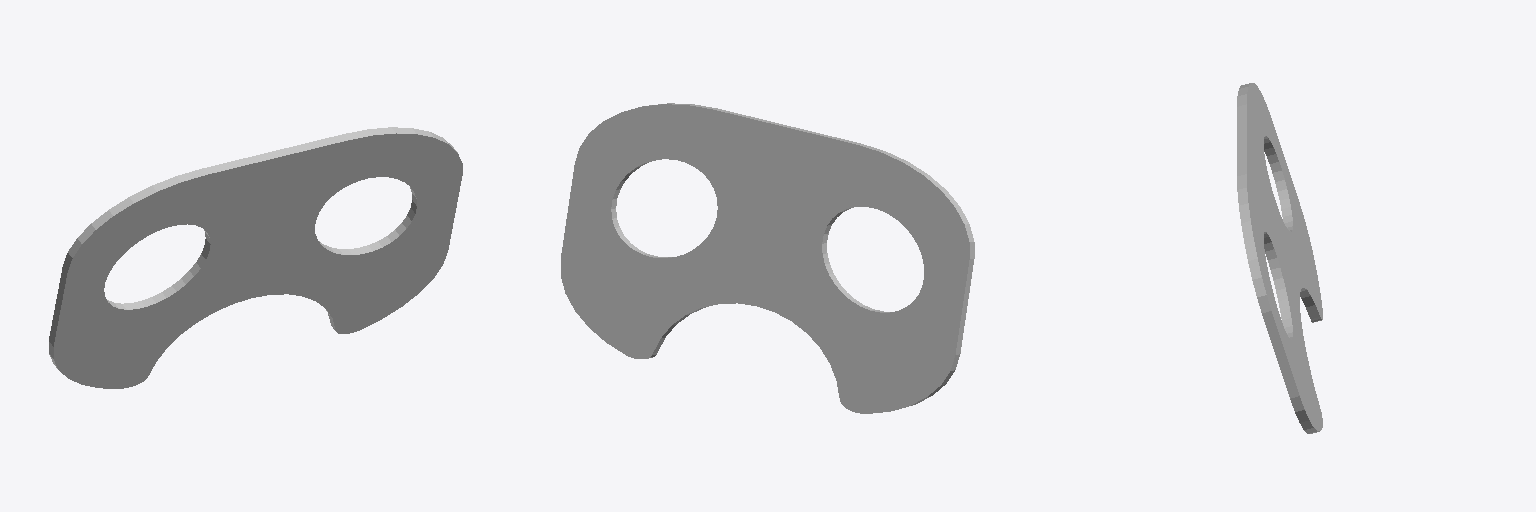
Rendered from steering wheel.obj.
3 renders of one model, left to right at view 1: azimuth 30°, elevation 25°; view 2: azimuth 150°, elevation 25°; view 3: azimuth 270°, elevation 25°, orthographic.
Visible parts, largest first — view 1: Cube; view 2: Cube; view 3: Cube.
Boxes of the visible parts, <box> form: Cube: <box>49,127,462,388</box>; Cube: <box>561,103,974,413</box>; Cube: <box>1237,83,1322,433</box>.
Bounding box in the file's own units: 0.231 × 0.1307 × 0.0437.